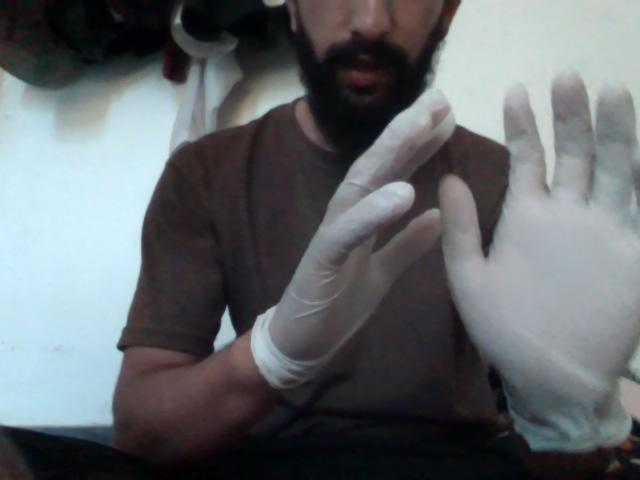gloves: (254, 58, 449, 383), (459, 84, 640, 402)
